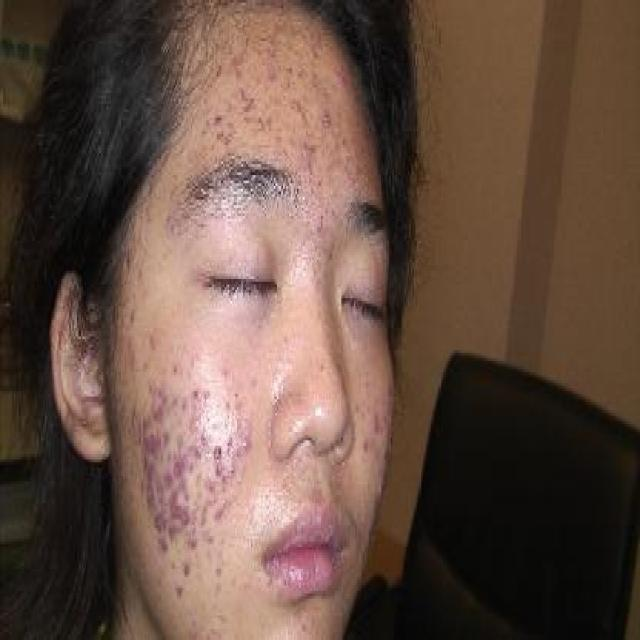blackheads: (249, 90, 260, 115), (360, 438, 371, 462), (228, 462, 240, 482), (316, 213, 324, 238), (324, 252, 336, 268), (300, 142, 311, 156), (282, 326, 289, 348), (316, 358, 324, 375), (237, 377, 245, 394), (171, 361, 178, 380), (229, 372, 237, 388), (207, 481, 216, 495), (237, 394, 243, 413), (242, 90, 249, 104), (234, 388, 241, 402), (228, 432, 235, 446), (242, 104, 250, 115), (237, 432, 243, 443), (236, 424, 242, 432), (226, 438, 232, 446)
papules: (315, 93, 337, 134), (232, 424, 257, 459), (210, 438, 228, 462)
pustules: (374, 478, 386, 501), (132, 408, 140, 430), (148, 440, 155, 454), (168, 476, 175, 489), (160, 566, 166, 577), (192, 508, 197, 520), (197, 564, 203, 572)
